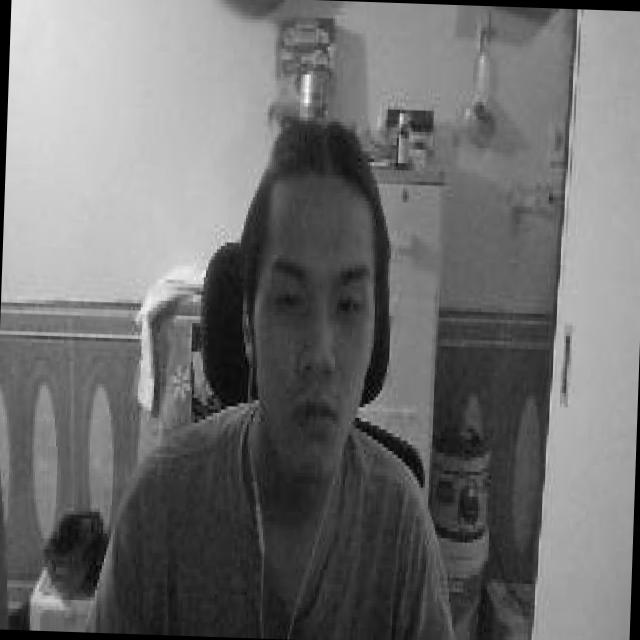Focused: (253, 228, 377, 466)
